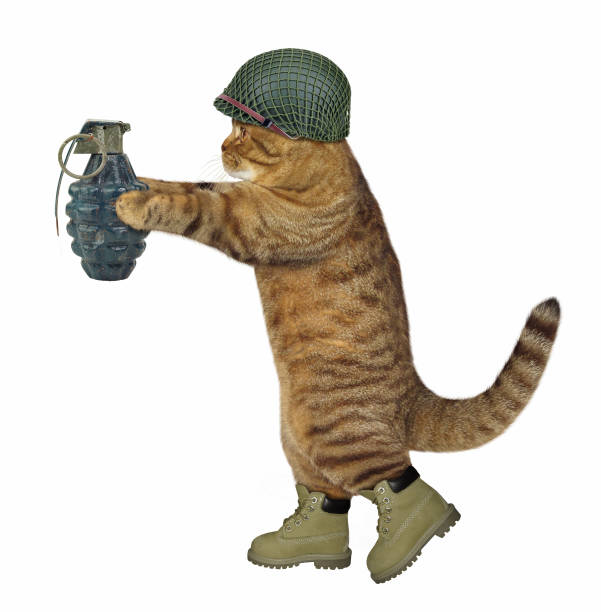e1: (50, 117, 155, 288)
